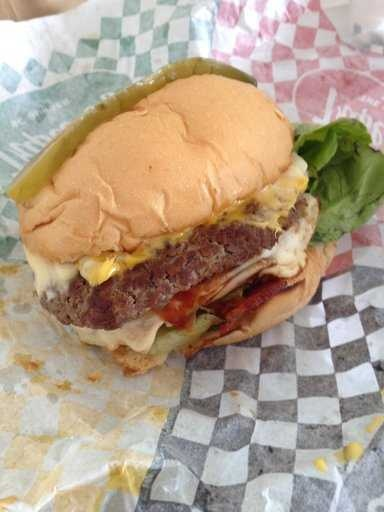hamburger: (16, 70, 326, 359)
